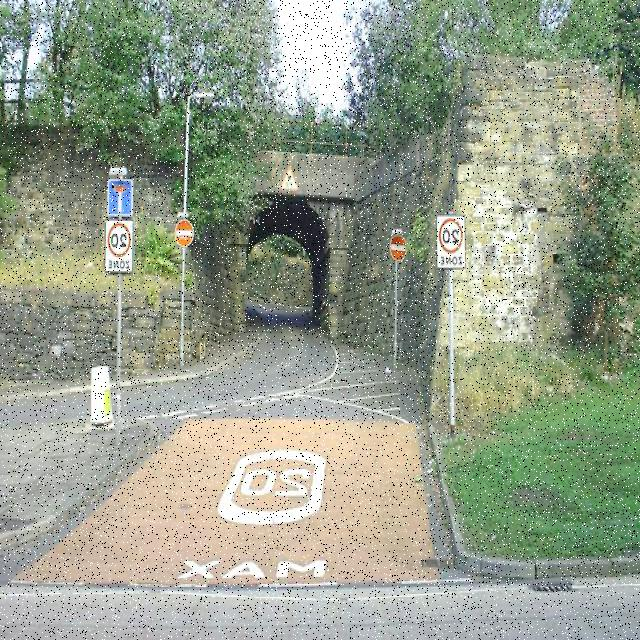no entry: (175, 218, 195, 247), (391, 232, 408, 260)
